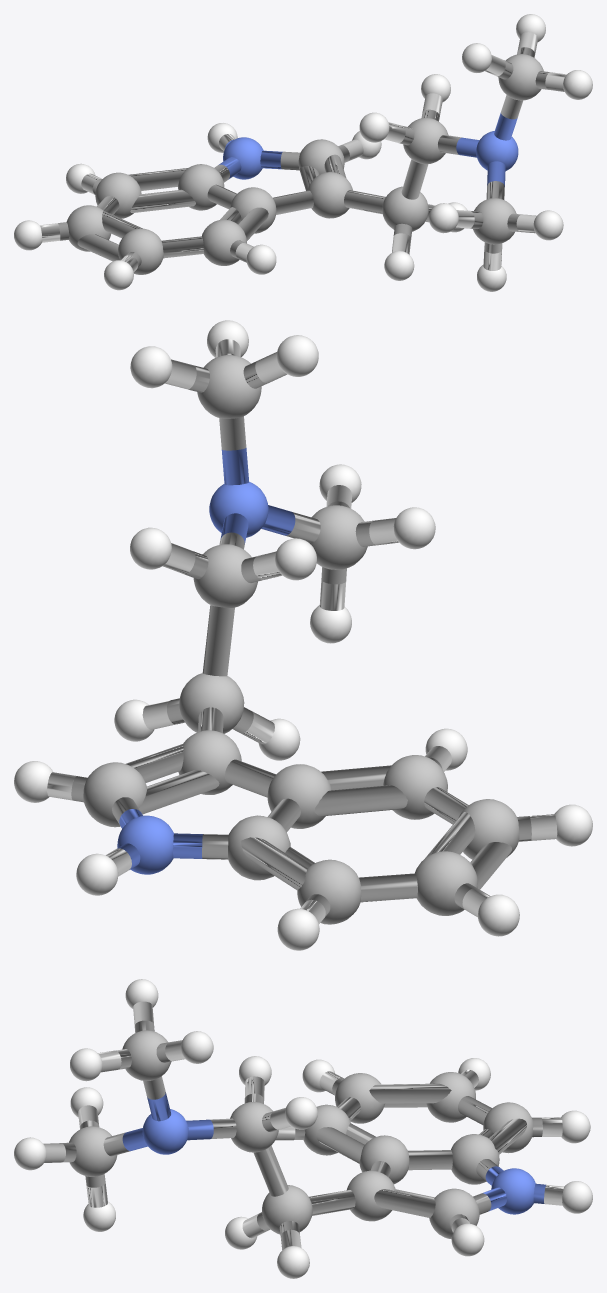
File: DMT.fbx
3 views of the same model, one above another, from view 1: azimuth 30°, elevation 25°; view 2: azimuth 150°, elevation 25°; view 3: azimuth 270°, elevation 25° (orthographic). The views are drawn at different scales.
Visible parts, largest first — view 1: C4_Atom, C9_Atom, C3_Atom, C13_Atom, C5_Atom, C11_Atom, C12_Atom, C7_Atom, C10_Atom, C14_Atom, N1_Atom, N2_Atom (+32 smaller); view 2: C14_Atom, C11_Atom, C5_Atom, C10_Atom, C8_Atom, C3_Atom, C12_Atom, C6_Atom, C9_Atom, N2_Atom, C4_Atom, C7_Atom (+31 smaller); view 3: C12_Atom, C3_Atom, C7_Atom, C5_Atom, C11_Atom, C4_Atom, C8_Atom, C6_Atom, N1_Atom, C13_Atom, Cylinder5, N2_Atom (+34 smaller).
Boxes of the visible parts, x1,y1,x2,y2 form: C4_Atom: (308, 172, 352, 218); C9_Atom: (202, 219, 246, 265); C3_Atom: (382, 186, 428, 231); C13_Atom: (118, 228, 163, 274); C5_Atom: (403, 117, 448, 164); C11_Atom: (498, 54, 543, 100); C12_Atom: (473, 198, 516, 244); C7_Atom: (178, 164, 224, 210); C10_Atom: (95, 172, 141, 218); C14_Atom: (66, 205, 110, 251); N1_Atom: (476, 131, 518, 170); N2_Atom: (223, 137, 263, 179); C14_Atom: (415, 851, 477, 915); C11_Atom: (197, 355, 261, 418); C5_Atom: (193, 544, 257, 607); C10_Atom: (297, 859, 361, 924); C8_Atom: (83, 762, 147, 827); C3_Atom: (179, 673, 244, 733); C12_Atom: (309, 505, 367, 569); C6_Atom: (267, 764, 331, 828); C9_Atom: (383, 755, 447, 819); N2_Atom: (117, 815, 173, 874); C4_Atom: (178, 730, 241, 794); C7_Atom: (228, 815, 290, 880); C12_Atom: (69, 1126, 117, 1176); C3_Atom: (262, 1185, 312, 1234); C7_Atom: (451, 1134, 499, 1184); C5_Atom: (230, 1101, 278, 1152); C11_Atom: (122, 1030, 171, 1080); C4_Atom: (347, 1170, 395, 1221); C8_Atom: (429, 1188, 479, 1239); C6_Atom: (359, 1135, 409, 1184); N1_Atom: (142, 1109, 188, 1154); C13_Atom: (335, 1073, 384, 1123); Cylinder5: (369, 1083, 451, 1103); N2_Atom: (491, 1168, 535, 1214).
Size of the model in its own units: 780 by 484 by 892.
